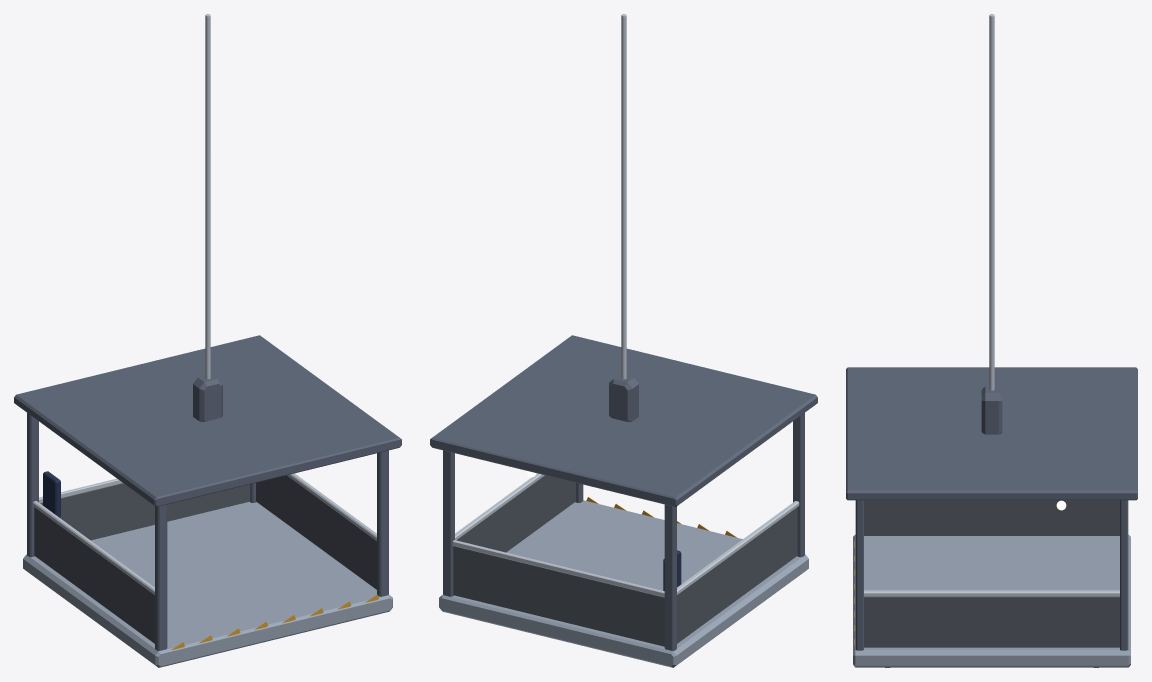
File: shared_elevator.glb
The picture shows the model from 3 angles, left to right: view 1: azimuth 30°, elevation 25°; view 2: azimuth 150°, elevation 25°; view 3: azimuth 270°, elevation 25°; orthographic projection. The views are drawn at different scales.
Parts seen in each view (by area): view 1: lift_roof, lift_floor, lift_mesh-1.90, lift_mesh1.90, lift_mesh0-1.9, lift_cable, lift_post-1.91.9, lift_post1.91.9, lift_post-1.9-1.9, lift_yoke, lift_rail-1.90, lift_rail1.90 (+1 smaller); view 2: lift_roof, lift_floor, lift_mesh0-1.9, lift_mesh-1.90, lift_mesh1.90, lift_cable, lift_post-1.9-1.9, lift_post1.9-1.9, lift_rail0-1.9, lift_post-1.91.9, lift_yoke, lift_rail-1.90 (+1 smaller); view 3: lift_roof, lift_floor, lift_mesh1.90, lift_mesh-1.90, lift_cable, lift_rail1.90, lift_post1.9-1.9, lift_post1.91.9, lift_yoke.
Boxes of the visible parts, box(x1,y1,x2,y2) form: lift_roof: box(14, 335, 401, 506); lift_floor: box(23, 501, 392, 667); lift_mesh-1.90: box(34, 507, 154, 643); lift_mesh1.90: box(256, 475, 376, 589); lift_mesh0-1.9: box(40, 483, 250, 540); lift_cable: box(205, 14, 210, 379); lift_post-1.91.9: box(155, 504, 167, 650); lift_post1.91.9: box(377, 450, 388, 596); lift_post-1.9-1.9: box(27, 413, 38, 557); lift_yoke: box(193, 374, 222, 421); lift_rail-1.90: box(32, 501, 154, 594); lift_rail1.90: box(287, 473, 376, 540); lift_roof: box(430, 335, 817, 506); lift_floor: box(439, 500, 808, 667); lift_mesh0-1.9: box(453, 546, 664, 646); lift_mesh-1.90: box(677, 507, 797, 643); lift_mesh1.90: box(456, 475, 575, 552); lift_cable: box(621, 14, 626, 379); lift_post-1.9-1.9: box(664, 504, 676, 650); lift_post1.9-1.9: box(443, 450, 454, 596); lift_rail0-1.9: box(452, 540, 664, 597); lift_post-1.91.9: box(793, 413, 804, 557); lift_yoke: box(609, 374, 638, 421); lift_rail-1.90: box(677, 501, 799, 594); lift_roof: box(846, 367, 1137, 500); lift_floor: box(853, 534, 1130, 667); lift_mesh1.90: box(864, 597, 1119, 647); lift_mesh-1.90: box(864, 500, 1119, 535); lift_cable: box(989, 14, 994, 390); lift_rail1.90: box(864, 590, 1119, 596); lift_post1.9-1.9: box(1120, 500, 1128, 650); lift_post1.91.9: box(855, 500, 863, 650); lift_yoke: box(981, 386, 1002, 434).
Size of what is drawn, in the model's own units: 4.24 by 9.6 by 4.2.
